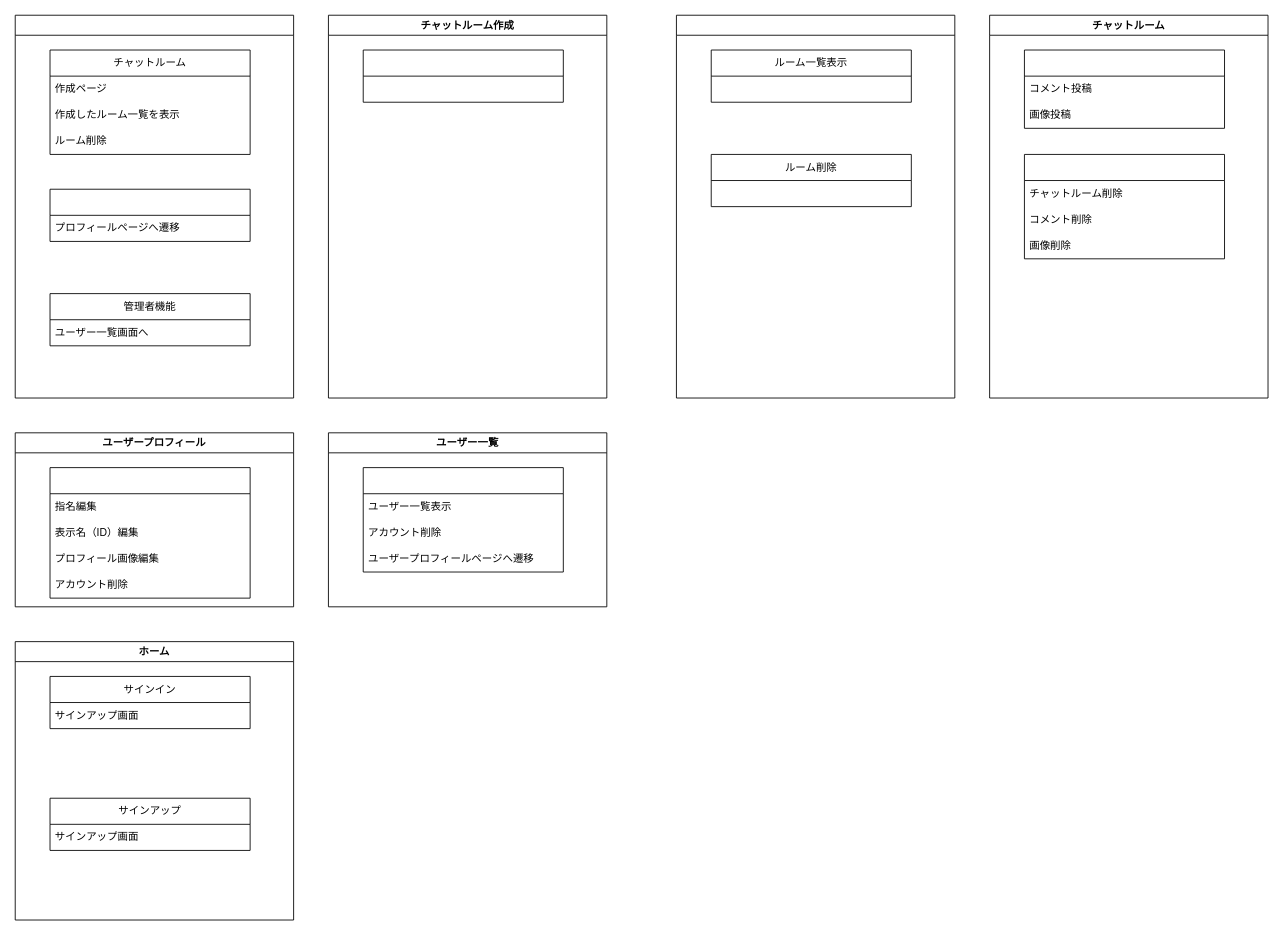
Image size: 1283x935. Some labels were removed from this diagram. The box of each missing label's shape, as (x1, y1, x2, y2) in pixels:
アカウント機能: (49, 188, 250, 241)
チャットルーム一覧: (676, 14, 955, 398)
チャット機能: (1024, 49, 1225, 128)
トップ: (14, 14, 294, 398)
ルーム作成: (362, 49, 563, 102)
管理機能: (1024, 154, 1225, 259)
